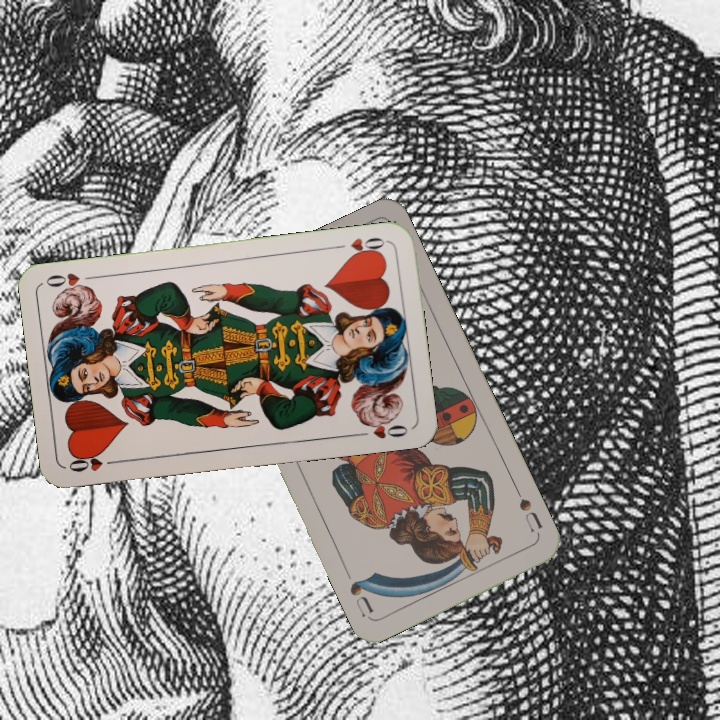HO: (330, 233, 389, 260), (64, 450, 123, 475)
SU: (510, 483, 545, 538)
